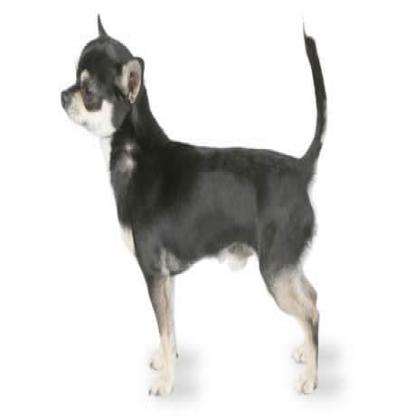Chihuahua: (43, 7, 383, 402)
